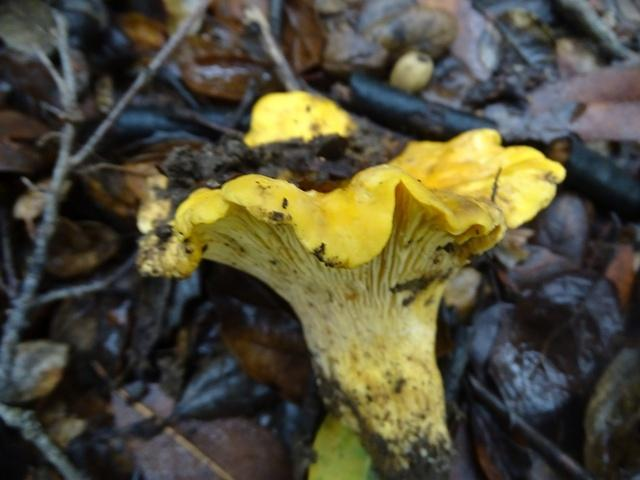Edible Mushroom: (165, 126, 564, 479)
